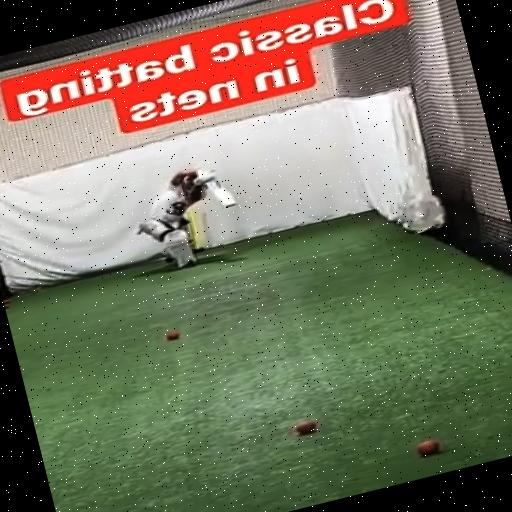Cricket bat: (205, 177, 237, 207)
